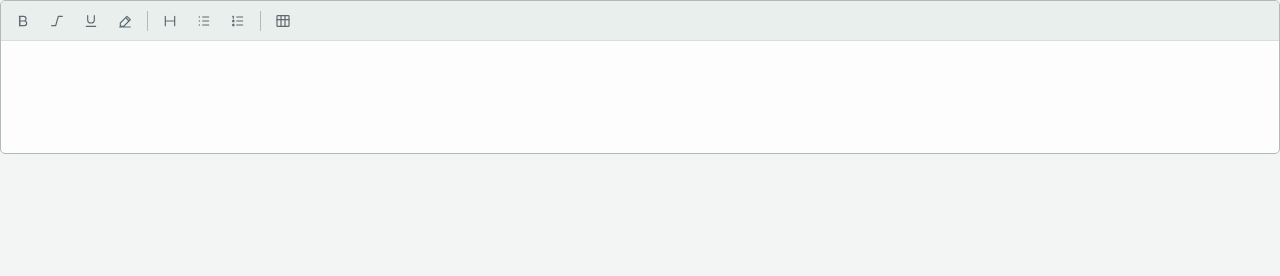
Test: Markdown editor › inserts a table and provides contextual row and table controls
The image size is (1280, 276).
Click the button named "Insert table" at (283, 20), box left=267, top=6, right=299, bottom=36
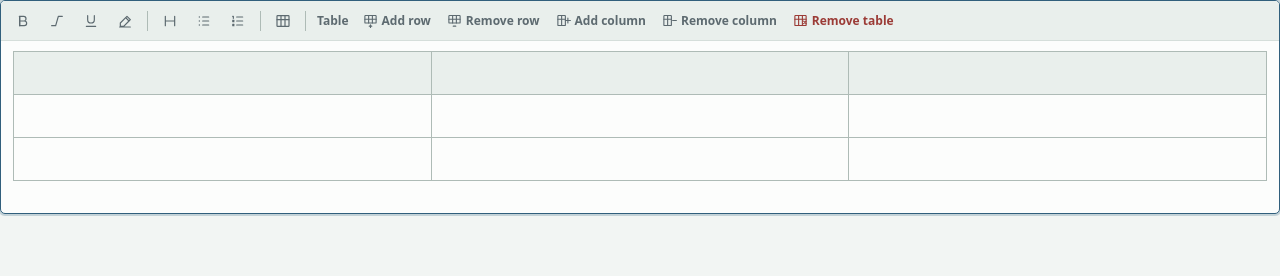
Expected: the number of rows is 3, left=14, top=52, right=1266, bottom=94; left=14, top=94, right=1266, bottom=138; left=14, top=138, right=1266, bottom=180
Expected: the button with aria-label "Add row below" is shown
Click the button with aria-label "Add row below" at (397, 20), box left=356, top=6, right=438, bottom=36
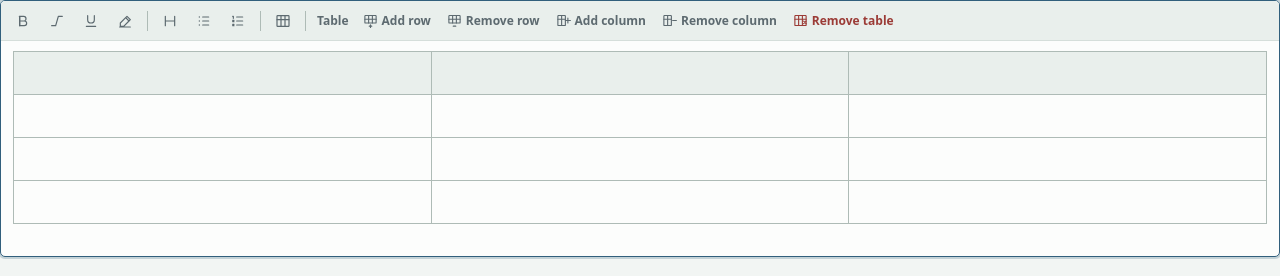
Expected: the number of rows is 4, left=14, top=52, right=1266, bottom=94; left=14, top=94, right=1266, bottom=138; left=14, top=138, right=1266, bottom=180; left=14, top=180, right=1266, bottom=224
Click the button "Remove table" at (843, 20), box left=786, top=6, right=901, bottom=36
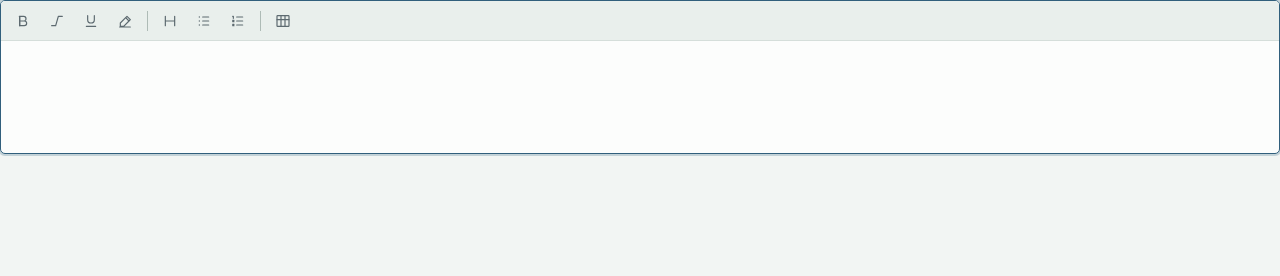
Expected: the table is gone
